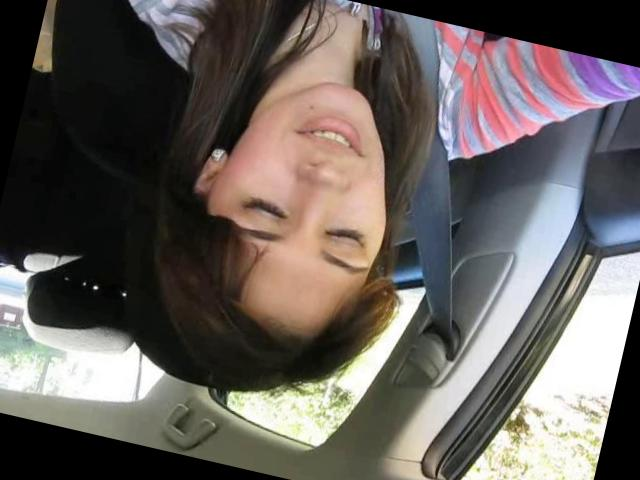eye_closed: (235, 188, 294, 229), (318, 215, 374, 257)
face: (202, 61, 418, 291)
